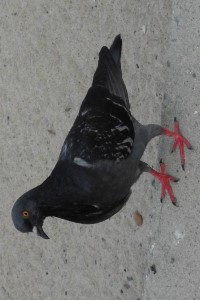pigeon: (10, 31, 194, 242)
